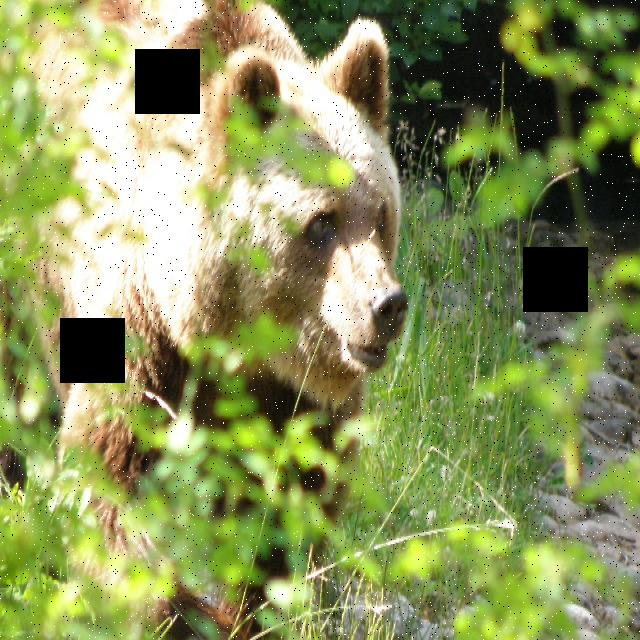Bear: (0, 0, 423, 623)
